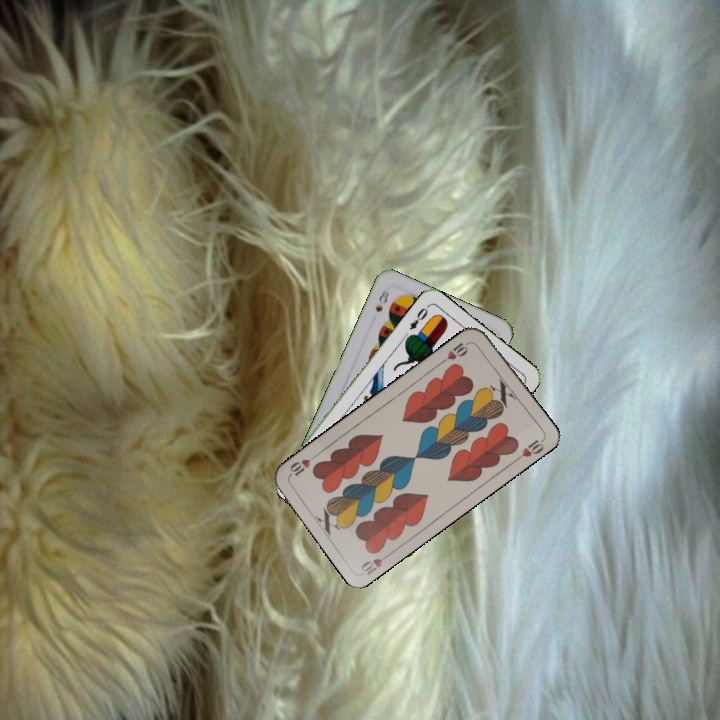EO: (405, 301, 432, 332)
H10: (357, 548, 394, 578), (438, 337, 473, 365)
S8: (371, 286, 391, 314)
